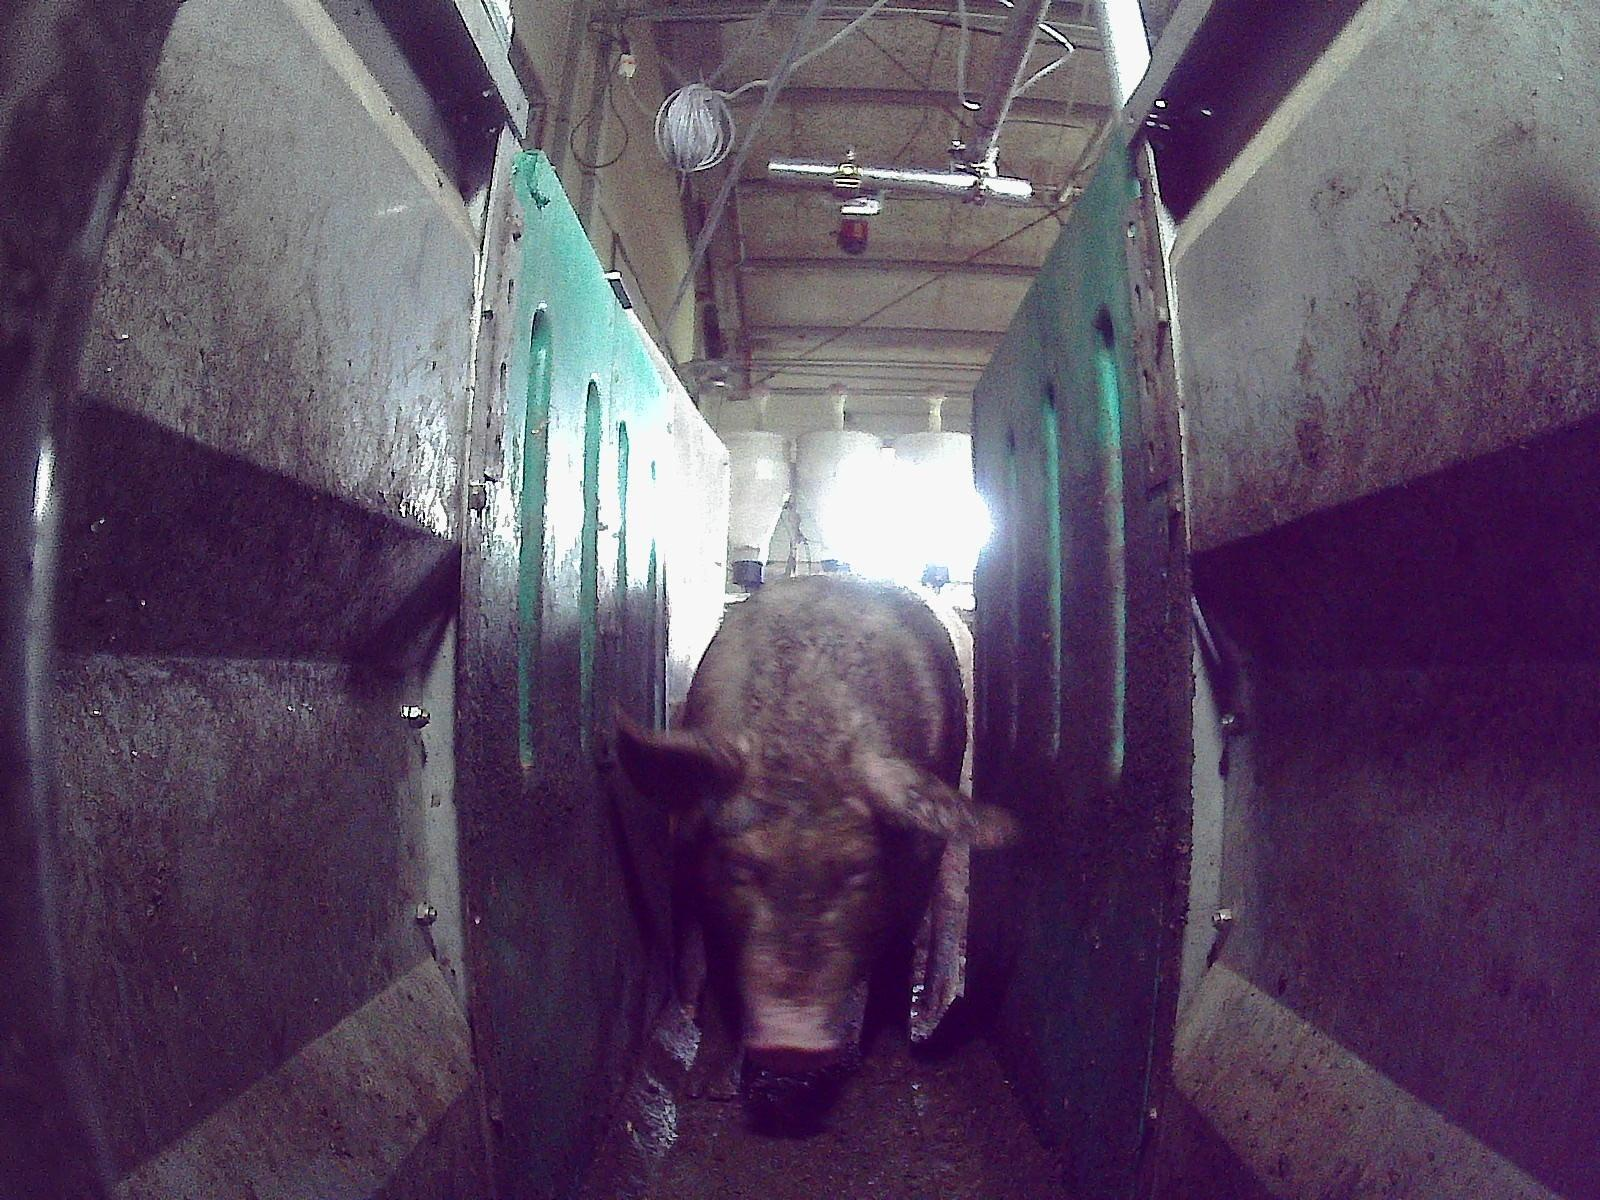Face: (700, 746, 912, 1071)
